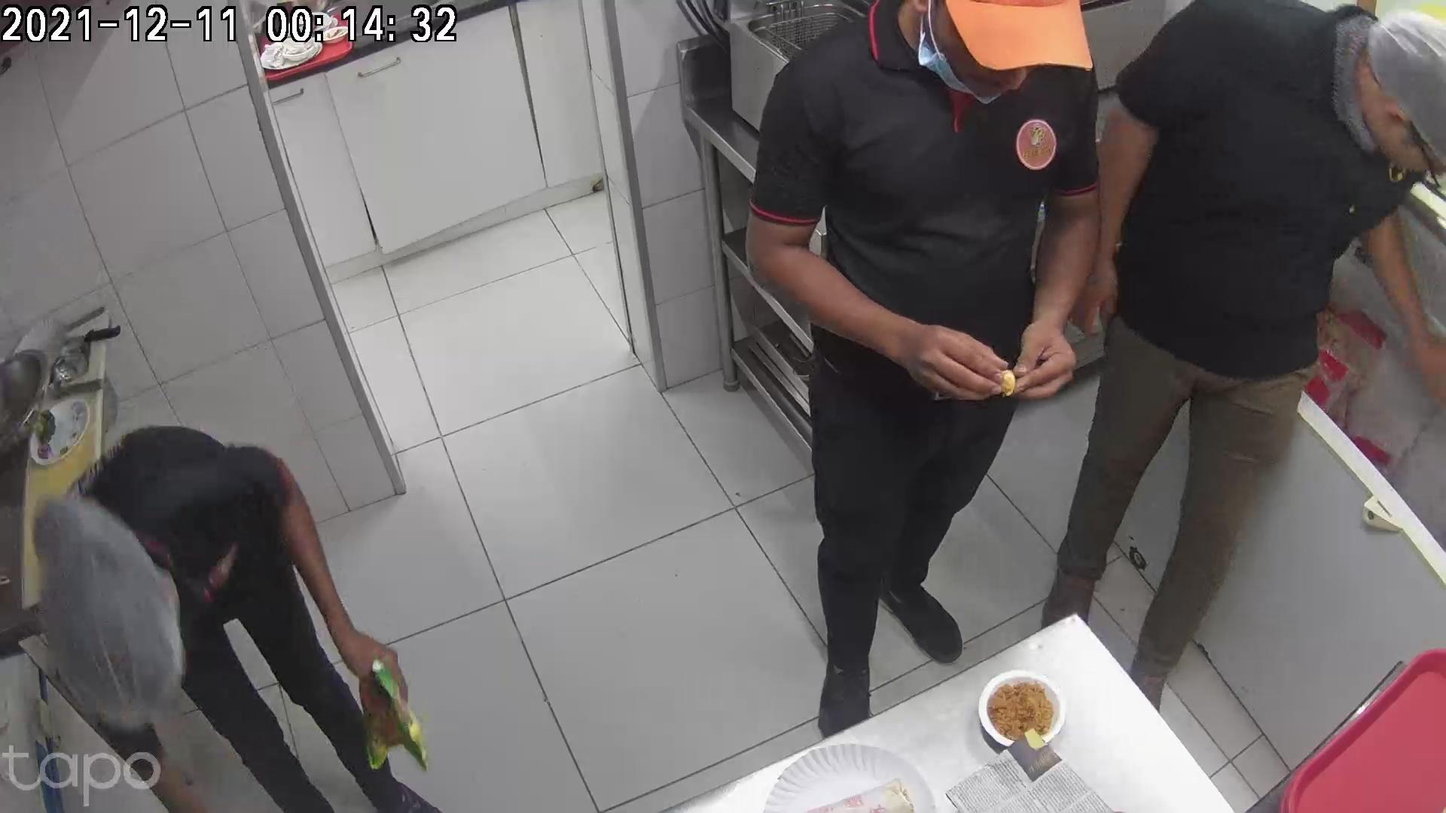no_gloves: (669, 260, 819, 358)
